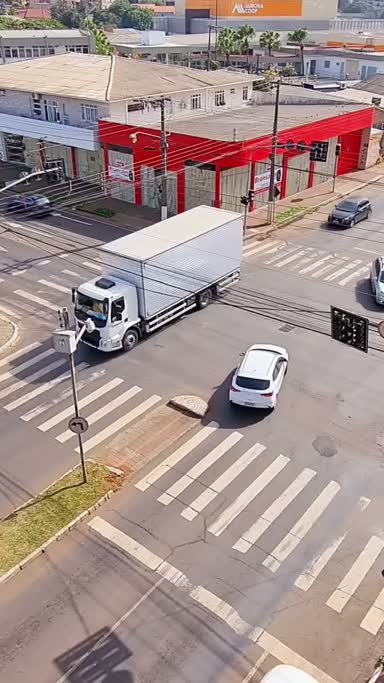car: (219, 329, 292, 430), (0, 183, 51, 226), (325, 197, 371, 233)
truck: (62, 203, 257, 356)
